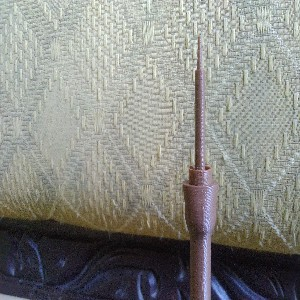solder: (182, 34, 220, 300)
